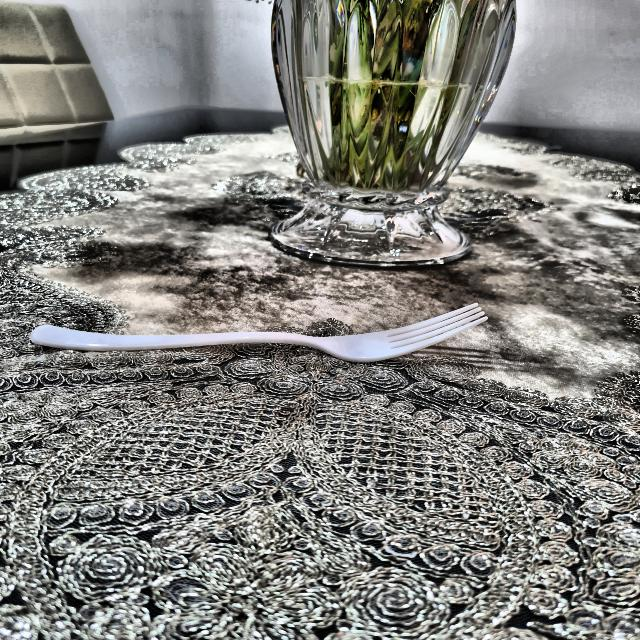plastic utensil: (30, 299, 498, 362)
